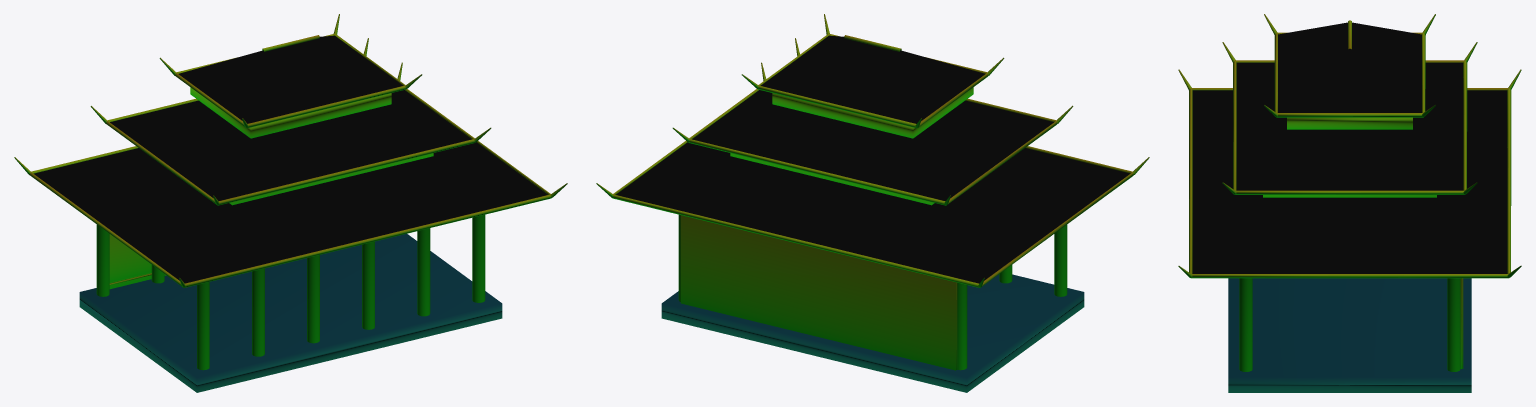
File: lacquer_hall.glb
The picture shows the model from 3 angles, left to right: view 1: azimuth 30°, elevation 25°; view 2: azimuth 150°, elevation 25°; view 3: azimuth 270°, elevation 25°; orthographic projection. The views are drawn at different scales.
Parts seen in each view (by area): view 1: lacquer_hall; view 2: lacquer_hall; view 3: lacquer_hall.
Part boxes in pixels (left/top/right/bottom): lacquer_hall: left=14, top=14, right=567, bottom=392; lacquer_hall: left=596, top=14, right=1149, bottom=392; lacquer_hall: left=1178, top=14, right=1521, bottom=392.
Size of what is drawn, in the model's own units: 15.23 by 10.15 by 11.23.
